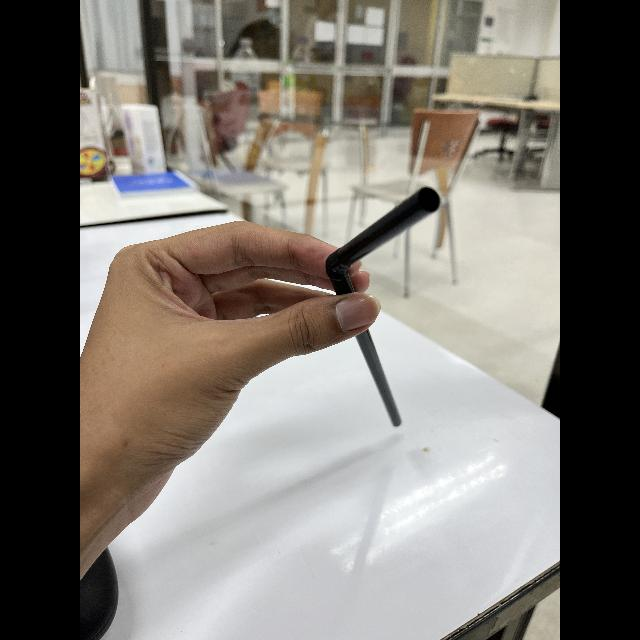straw: (326, 182, 446, 436)
